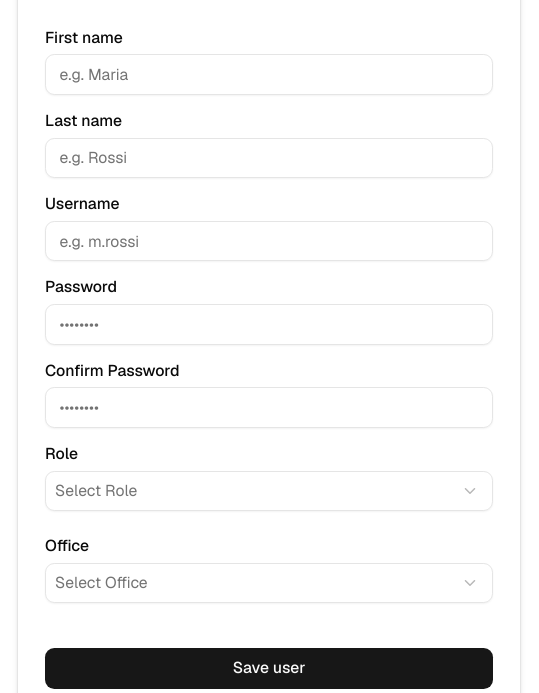
MunicipalityUserForm › should validate required fields
(page scrolled)
Click the button "Save user" at (269, 669), box [45,648,493,689]
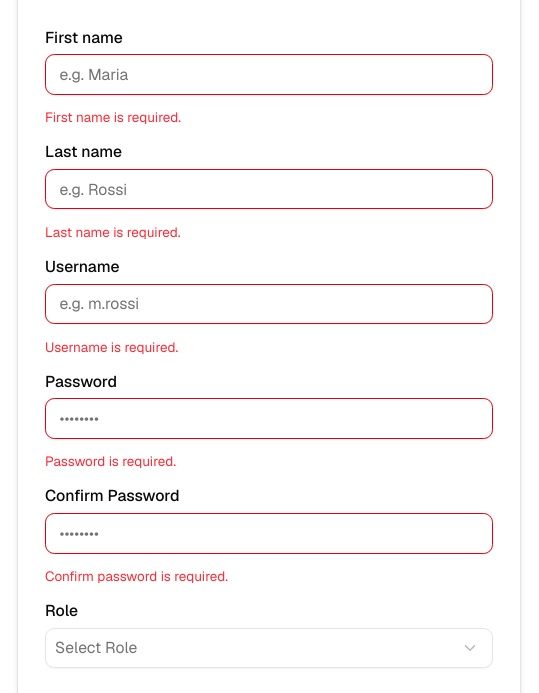
expect the text "First name is required." is shown: met, box [45,108,181,126]
